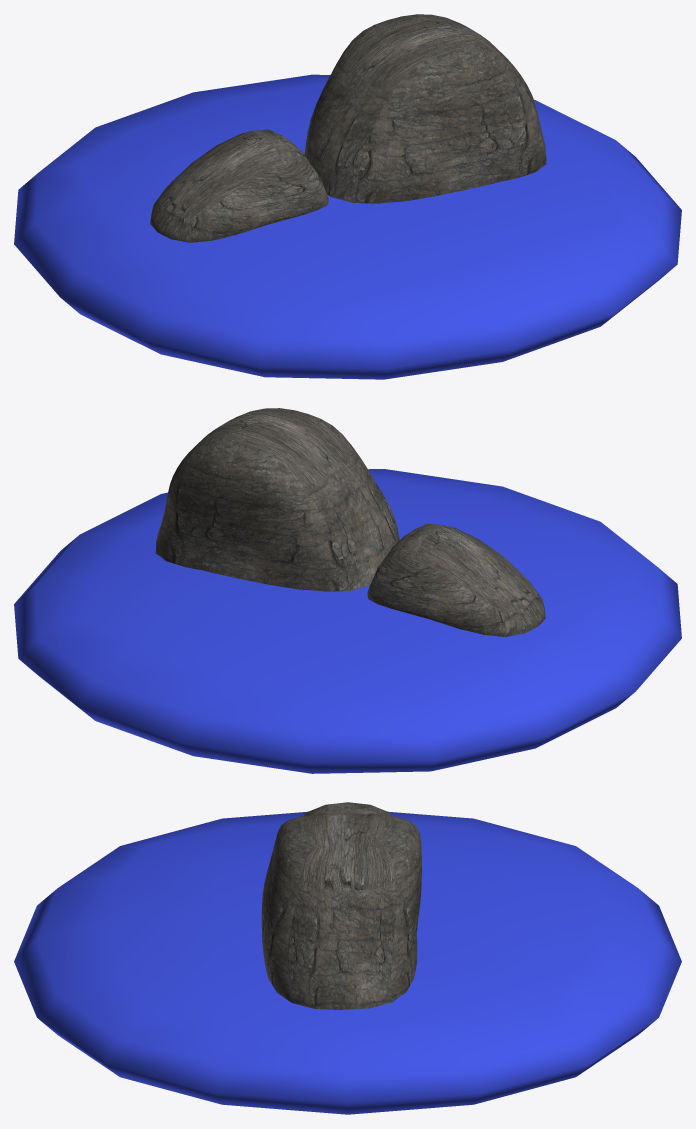
The model's file is шаман камень.glb.
The picture shows the model from 3 angles, top to bottom: view 1: azimuth 30°, elevation 25°; view 2: azimuth 150°, elevation 25°; view 3: azimuth 270°, elevation 25°; orthographic projection.
Parts seen in each view (by area): view 1: Plane, Cube; view 2: Plane, Cube; view 3: Plane, Cube.
Part boxes in pixels (x1,y1,x2,y2): Plane: [14, 74, 681, 379]; Cube: [150, 14, 546, 242]; Plane: [14, 469, 681, 773]; Cube: [155, 408, 545, 636]; Plane: [14, 811, 681, 1114]; Cube: [261, 802, 421, 1010].
Size of the model in its own units: 10.4 by 4 by 10.4.
Materials: 2 (1 with a texture image).
